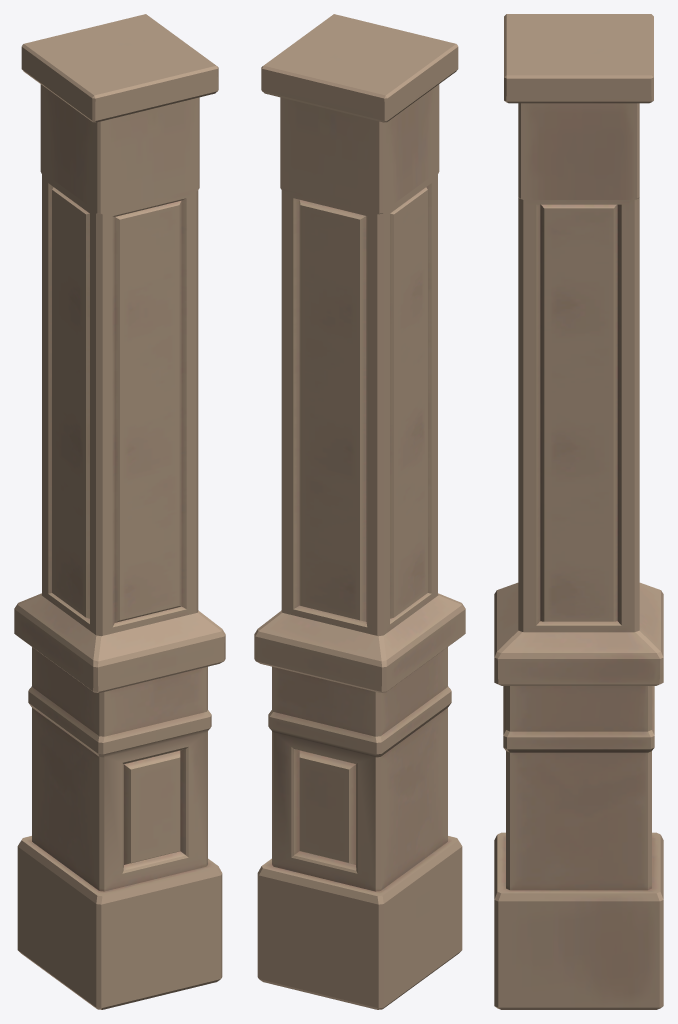
File: ColumnFull (13).fbx
The picture shows the model from 3 angles, left to right: view 1: azimuth 30°, elevation 25°; view 2: azimuth 150°, elevation 25°; view 3: azimuth 270°, elevation 25°; orthographic projection. The views are drawn at different scales.
Visible parts, largest first — view 1: ColumnFull (13), column2Middle1, column2Top; view 2: ColumnFull (13), column2Middle1, column2Top; view 3: ColumnFull (13), column2Middle1, column2Top.
Boxes of the visible parts, <box> form: ColumnFull (13): <box>14,593,225,1009</box>; column2Middle1: <box>42,172,198,636</box>; column2Top: <box>21,14,218,214</box>; ColumnFull (13): <box>254,593,465,1009</box>; column2Middle1: <box>281,172,437,636</box>; column2Top: <box>261,14,458,214</box>; ColumnFull (13): <box>494,582,663,1009</box>; column2Middle1: <box>518,198,639,632</box>; column2Top: <box>504,14,653,199</box>.
Size of the model in its own units: 197 by 1297 by 213.
